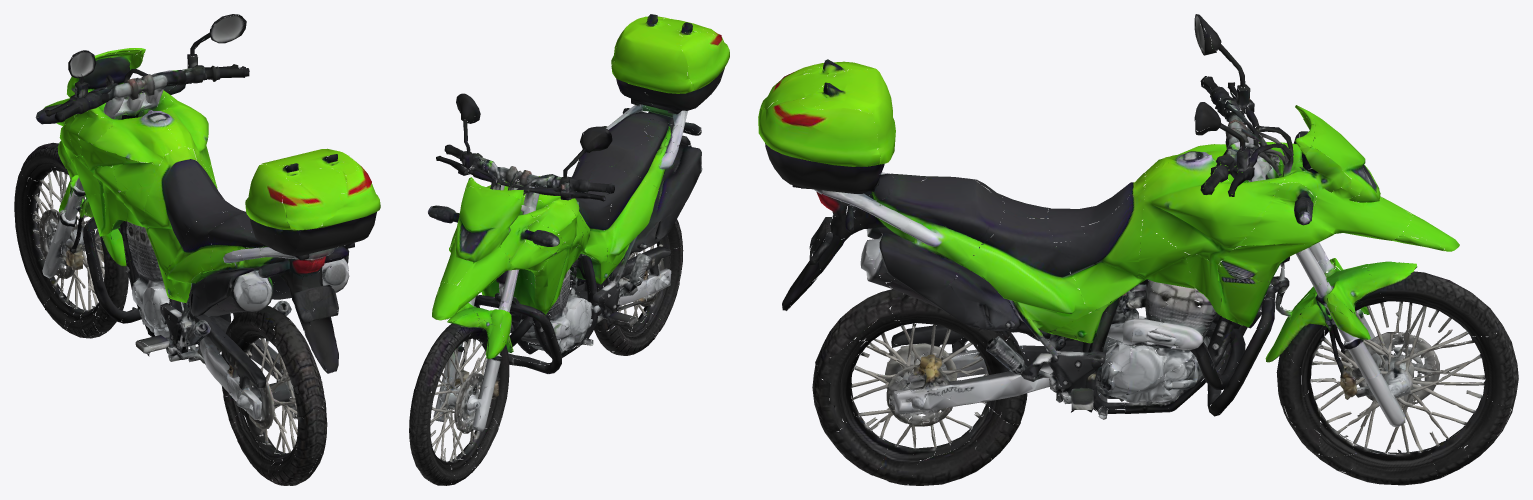
Rendered from moto_policia.opt.glb.
The picture shows the model from 3 angles, left to right: view 1: azimuth 30°, elevation 25°; view 2: azimuth 150°, elevation 25°; view 3: azimuth 270°, elevation 25°; orthographic projection. The views are drawn at different scales.
Parts seen in each view (by area): view 1: tripo_node_e79495ba-ffcf-4f53-8f35-d9784a5a460c; view 2: tripo_node_e79495ba-ffcf-4f53-8f35-d9784a5a460c; view 3: tripo_node_e79495ba-ffcf-4f53-8f35-d9784a5a460c.
Boxes of the visible parts, x1,y1,x2,y2 form: tripo_node_e79495ba-ffcf-4f53-8f35-d9784a5a460c: (14,14,380,485); tripo_node_e79495ba-ffcf-4f53-8f35-d9784a5a460c: (409,14,729,485); tripo_node_e79495ba-ffcf-4f53-8f35-d9784a5a460c: (758,14,1518,485).
Bounding box in the file's own units: 0.3466 × 0.6164 × 1.
1 material, 1 textured.
